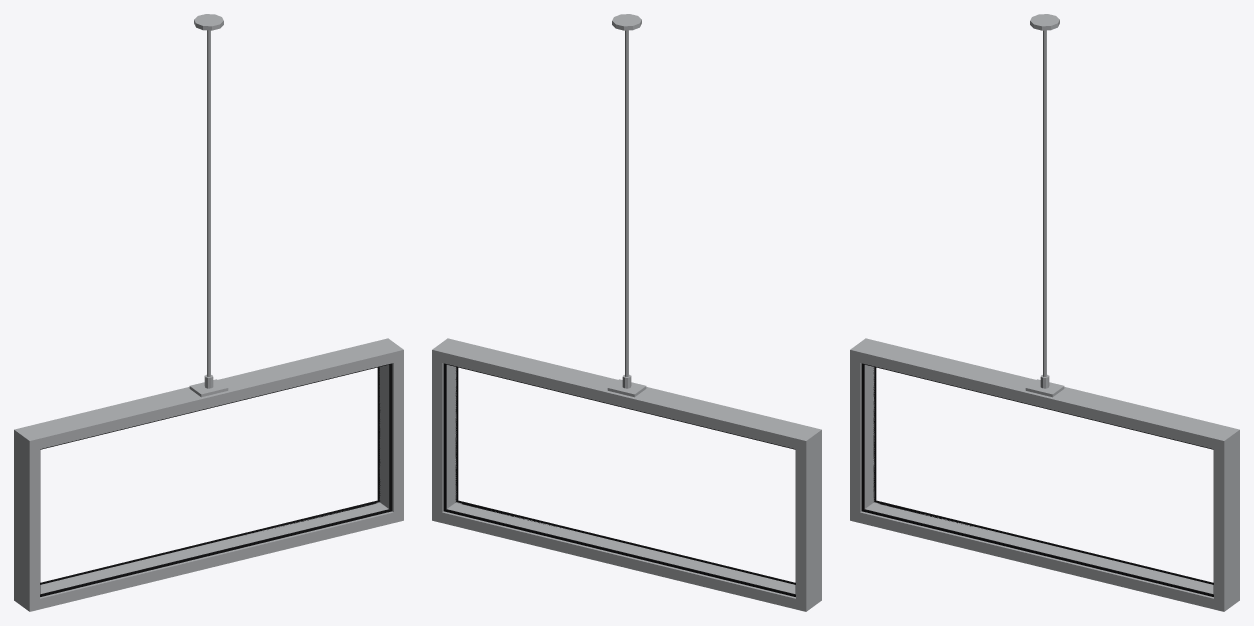
Rendered from gteki_sign_frame_9slice_h480_d80.glb.
The picture shows the model from 3 angles, left to right: view 1: azimuth 30°, elevation 25°; view 2: azimuth 150°, elevation 25°; view 3: azimuth 330°, elevation 25°; orthographic projection.
Visible parts, largest first — view 1: VIS_span, VIS_end_L, VIS_end_R, VIS_rod; view 2: VIS_span, VIS_end_L, VIS_end_R, VIS_rod; view 3: VIS_span, VIS_end_R, VIS_end_L, VIS_rod.
Part boxes in pixels (<box>): VIS_span: <box>31,342,386,607</box>; VIS_end_L: <box>14,425,46,611</box>; VIS_end_R: <box>371,338,403,524</box>; VIS_rod: <box>207,19,210,376</box>; VIS_span: <box>449,342,804,607</box>; VIS_end_L: <box>789,425,821,611</box>; VIS_end_R: <box>432,338,464,524</box>; VIS_rod: <box>625,19,628,376</box>; VIS_span: <box>867,342,1222,607</box>; VIS_end_R: <box>1207,425,1239,611</box>; VIS_end_L: <box>850,338,882,524</box>; VIS_rod: <box>1043,19,1046,376</box>.
Size of the model in its own units: 1.1 by 1.52 by 0.08.
1 material, 1 textured.
